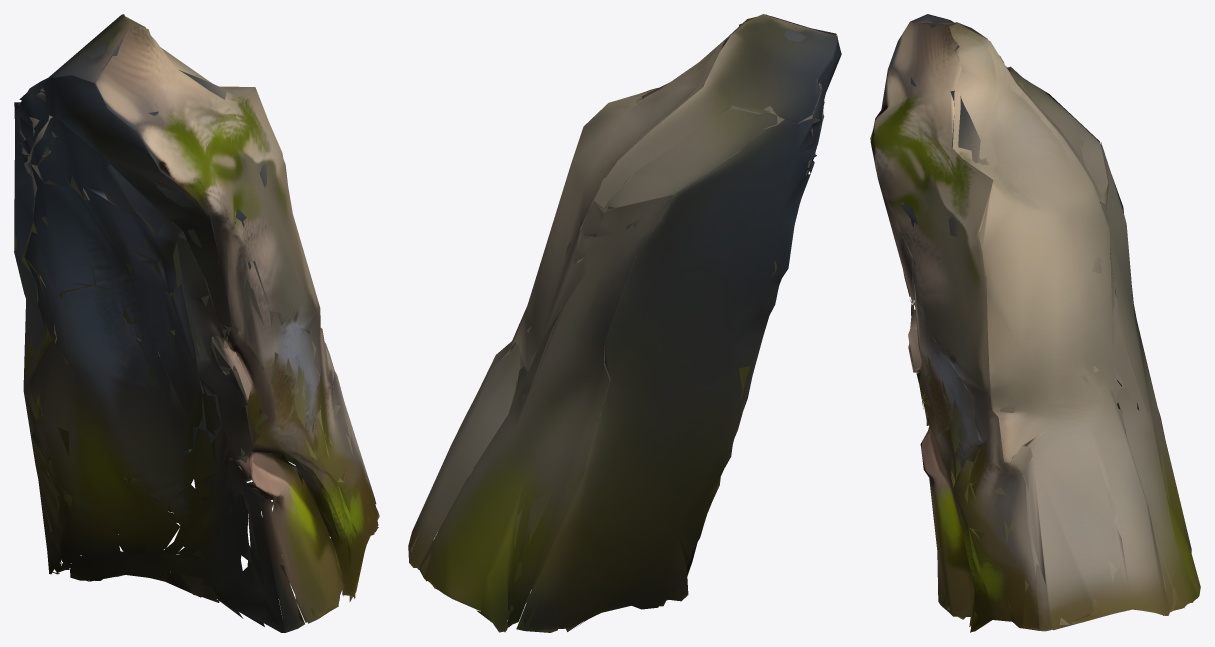
The model's file is stone_plain_hy.glb.
3 views of the same model, side by side, from view 1: azimuth 30°, elevation 25°; view 2: azimuth 150°, elevation 25°; view 3: azimuth 270°, elevation 25° (orthographic). The views are drawn at different scales.
Visible parts, largest first — view 1: stone_plain_hy; view 2: stone_plain_hy; view 3: stone_plain_hy.
Part boxes in pixels (x1,y1,x2,y2): stone_plain_hy: (14, 14, 379, 632); stone_plain_hy: (408, 14, 841, 632); stone_plain_hy: (870, 14, 1200, 632).
Bounding box in the file's own units: 2.69 × 4.14 × 2.39.
1 material, 1 textured.
